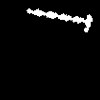half_double_crochet: (27, 9, 91, 31)
